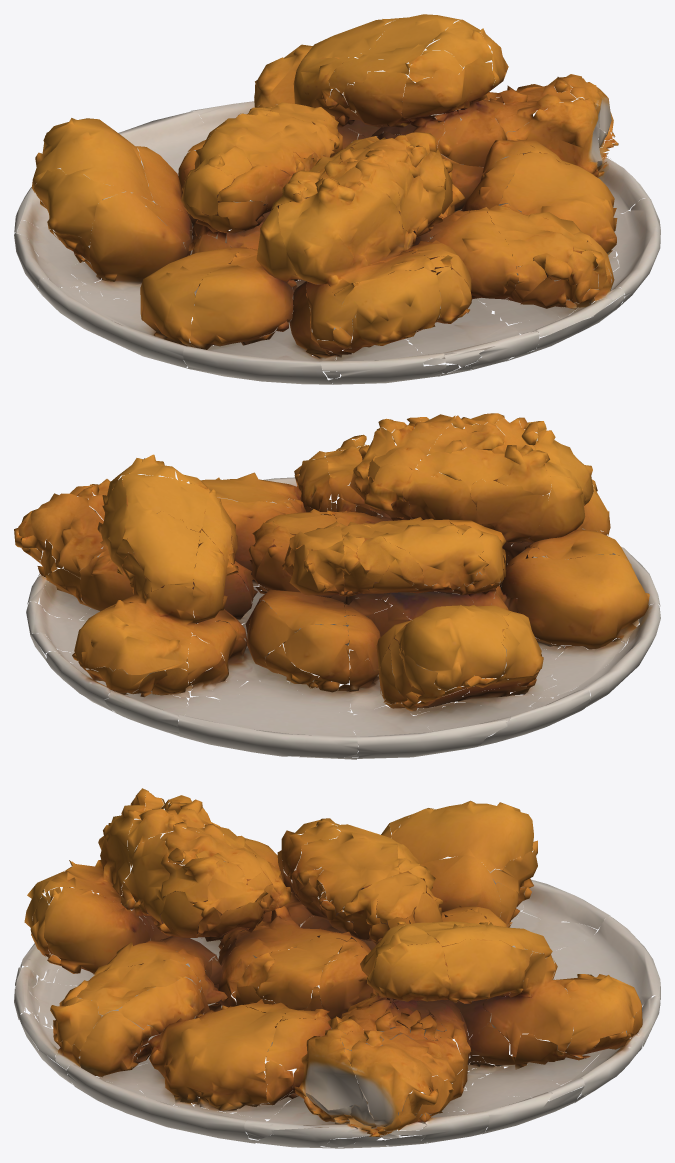
The model's file is nuggets.glb.
3 views of the same model, one above another, from view 1: azimuth 30°, elevation 25°; view 2: azimuth 150°, elevation 25°; view 3: azimuth 270°, elevation 25° (orthographic). The views are drawn at different scales.
Parts seen in each view (by area): view 1: tripo_node_85a5fed8-b1cd-40e2-a234-2520baf261da; view 2: tripo_node_85a5fed8-b1cd-40e2-a234-2520baf261da; view 3: tripo_node_85a5fed8-b1cd-40e2-a234-2520baf261da.
Part boxes in pixels (x1,y1,x2,y2): tripo_node_85a5fed8-b1cd-40e2-a234-2520baf261da: (14,14,660,384); tripo_node_85a5fed8-b1cd-40e2-a234-2520baf261da: (14,413,660,759); tripo_node_85a5fed8-b1cd-40e2-a234-2520baf261da: (14,788,660,1148).
Size of the model in its own units: 0.9797 by 0.2903 by 0.928.
1 material, 1 textured.
